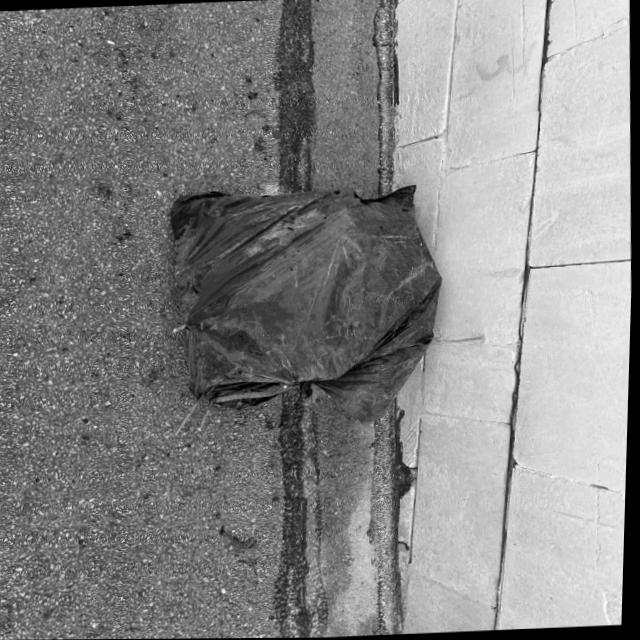Mixed Waste -Black Bags-: (169, 185, 444, 422)
